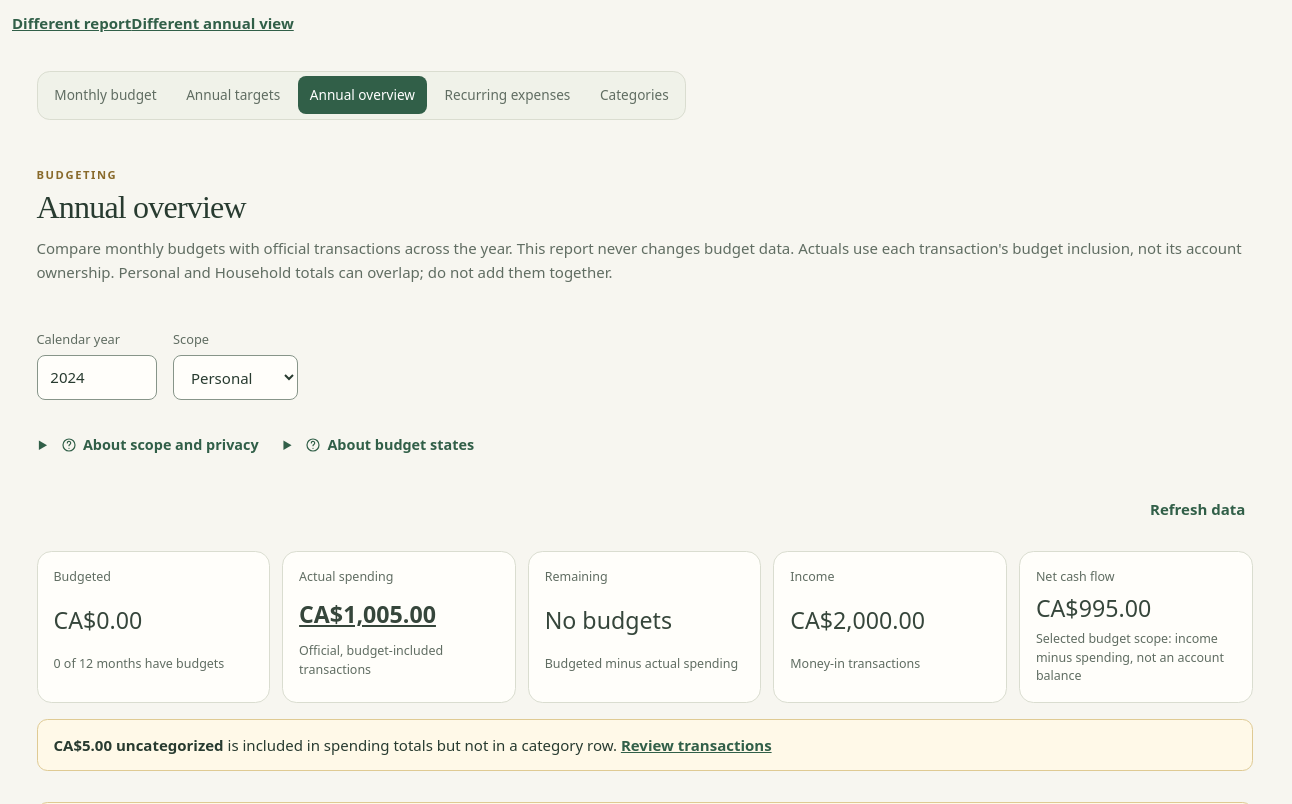
Test: annual report to transactions › preserves context in every spending link and returns to the original year and scope
The width and height of the screenshot is (1292, 804).
Click the link "CA$1,005.00": (368,614) [299,598,436,630]
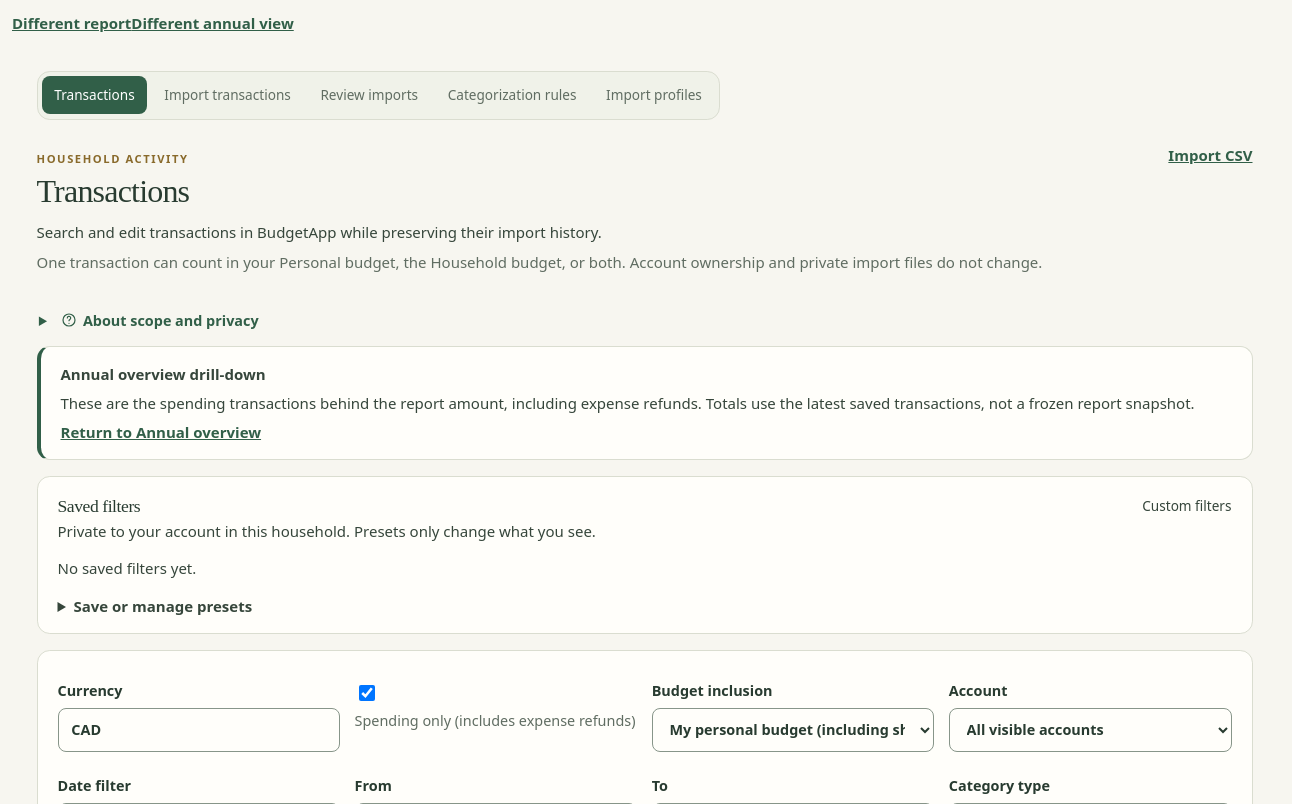
Expected: the text "Annual overview drill-down" is shown, [60,364,266,384]
Click the link "Return to Annual overview": (161,432) [60,421,261,443]
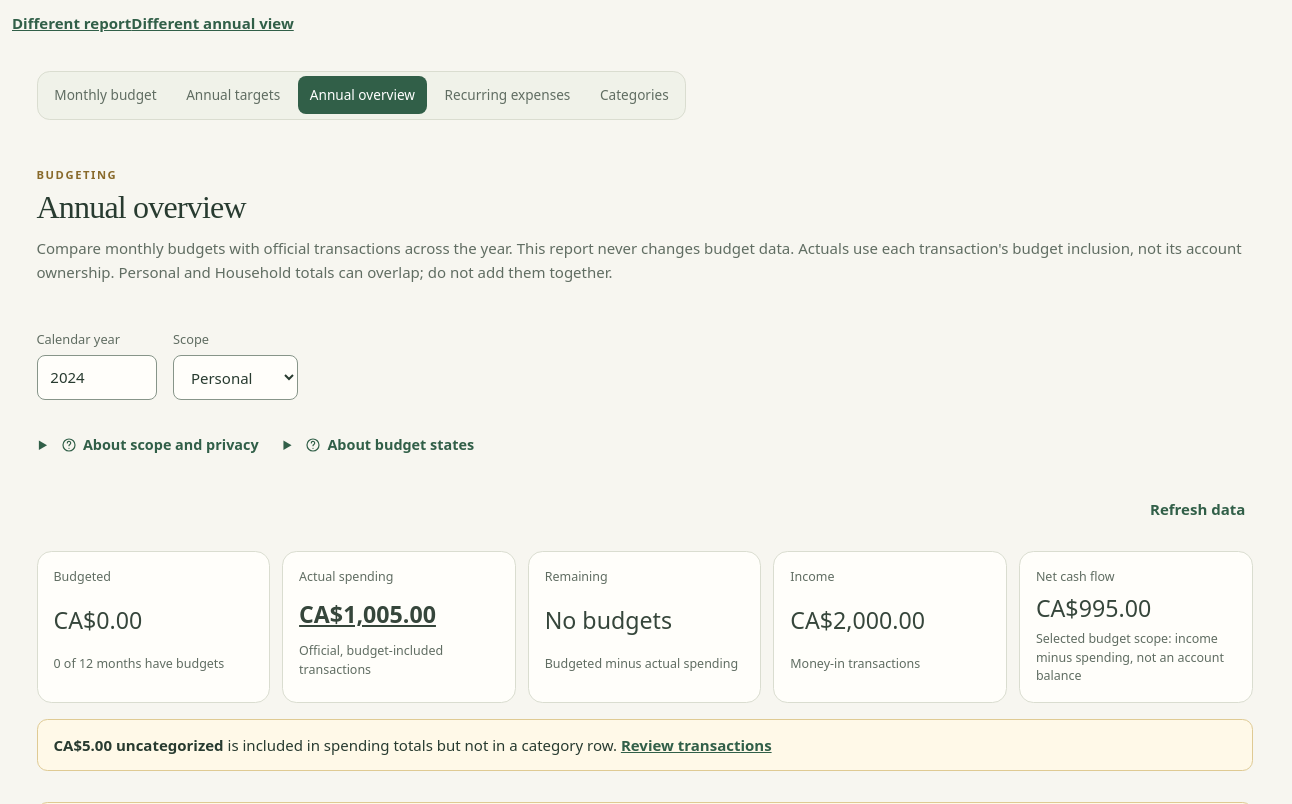
Expected: the element named "Annual summary" is shown, [36,551,1252,703]
Expected: the number field labelled "Calendar year" holds "2024", [36,355,157,400]
